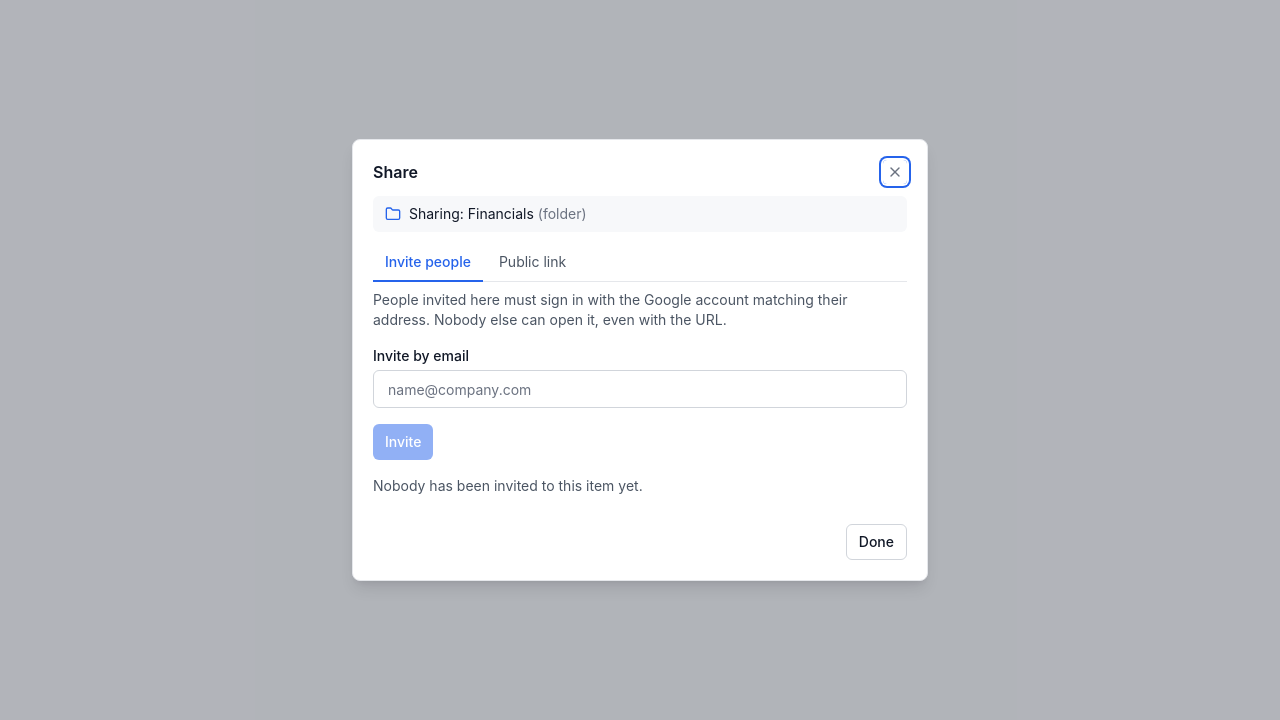
Scenario: ShareDialog › confirms the copy inline on the button rather than in a toast
What coordinates should you click on to do the following:
click the tab "Public link"
I would click on:
 (533, 263)
Its box is 487,244 -> 578,282.
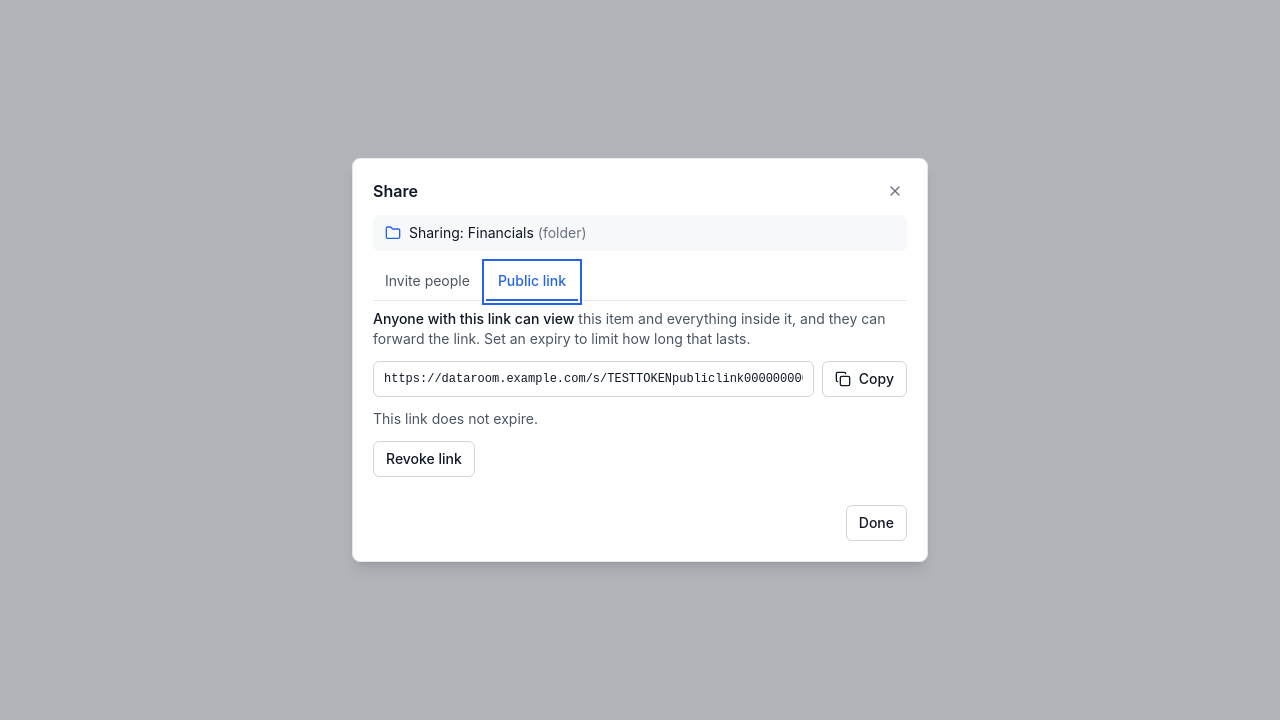
Expected: the field named "Public link URL" is shown, 373,361 -> 814,397
What coordinates should you click on to do the following:
click the button "Copy"
I would click on:
 (864, 379)
Its box is 822,361 -> 907,397.
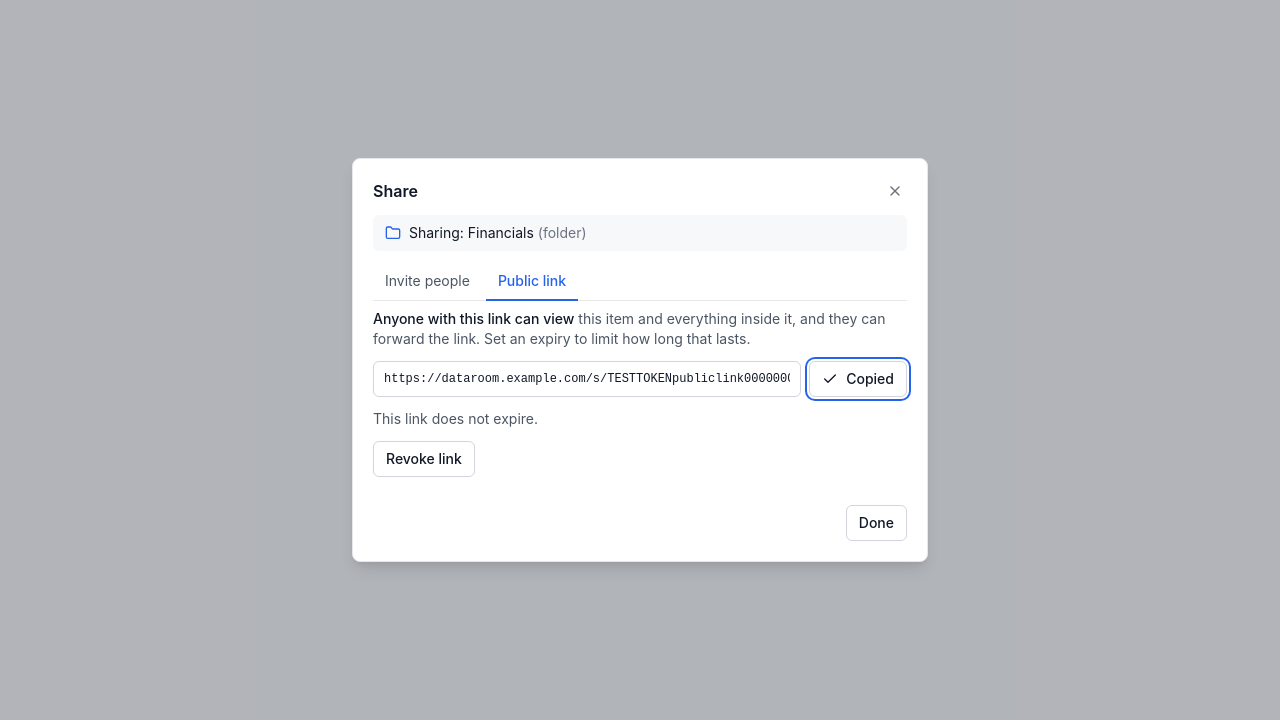
Expected: the button "Copied" is shown, 809,361 -> 907,397
